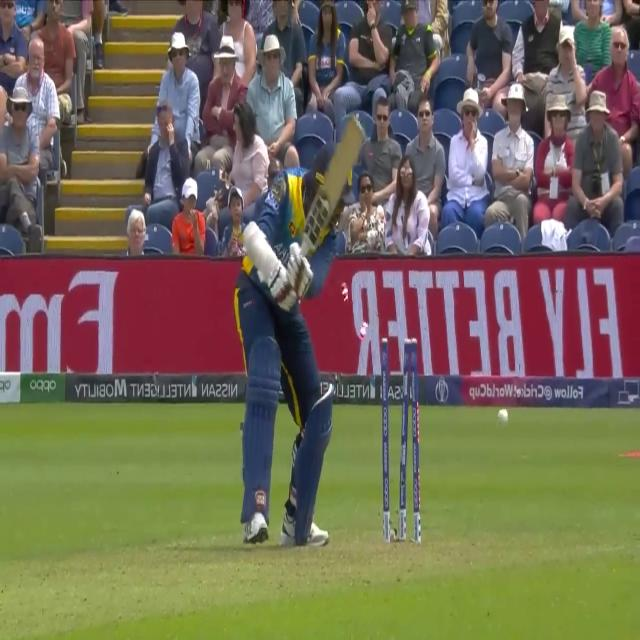ball: (492, 400, 512, 436)
